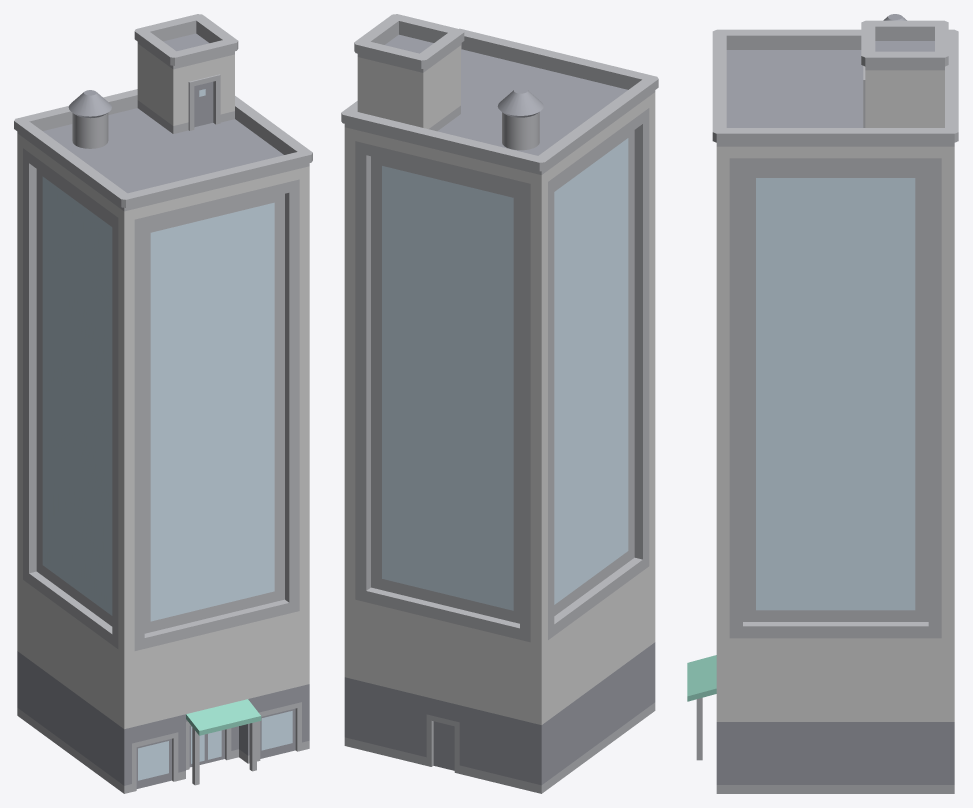
The model's file is skyscraperC.gltf.
3 views of the same model, side by side, from view 1: azimuth 30°, elevation 25°; view 2: azimuth 150°, elevation 25°; view 3: azimuth 270°, elevation 25° (orthographic). The views are drawn at different scales.
Parts seen in each view (by area): view 1: skyscraperC; view 2: skyscraperC; view 3: skyscraperC.
Part boxes in pixels (left/top/right/bottom): skyscraperC: left=14, top=14, right=312, bottom=793; skyscraperC: left=341, top=14, right=658, bottom=793; skyscraperC: left=687, top=14, right=958, bottom=793.
Size of the model in its own units: 1.24 by 4.08 by 1.37.
